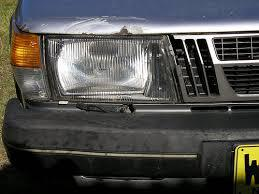Headlight-Damage: (20, 5, 186, 112)
